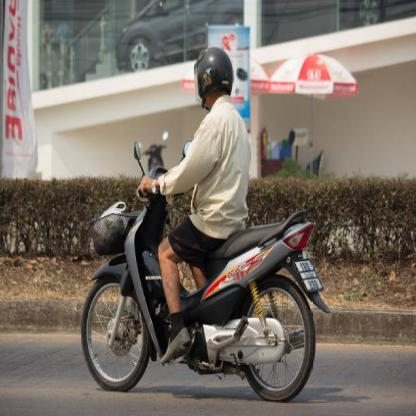Motorcycle: (79, 123, 327, 403)
